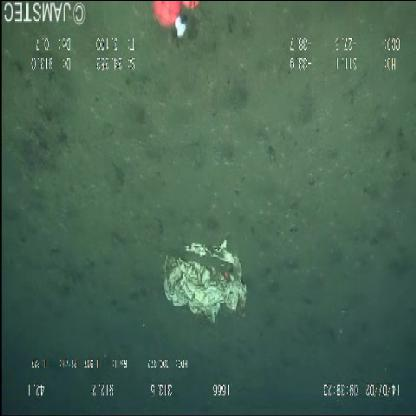Rov: (131, 2, 216, 44)
Rác: (150, 219, 255, 337)
